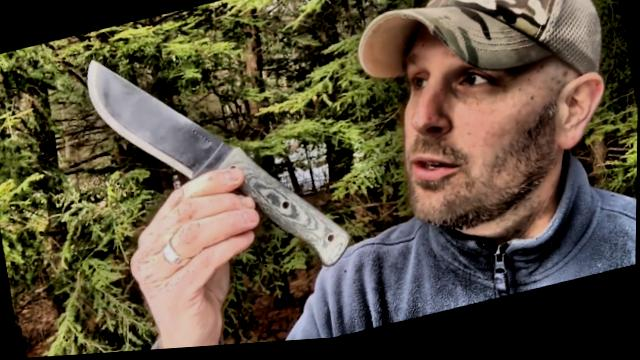knife: (72, 16, 277, 286)
